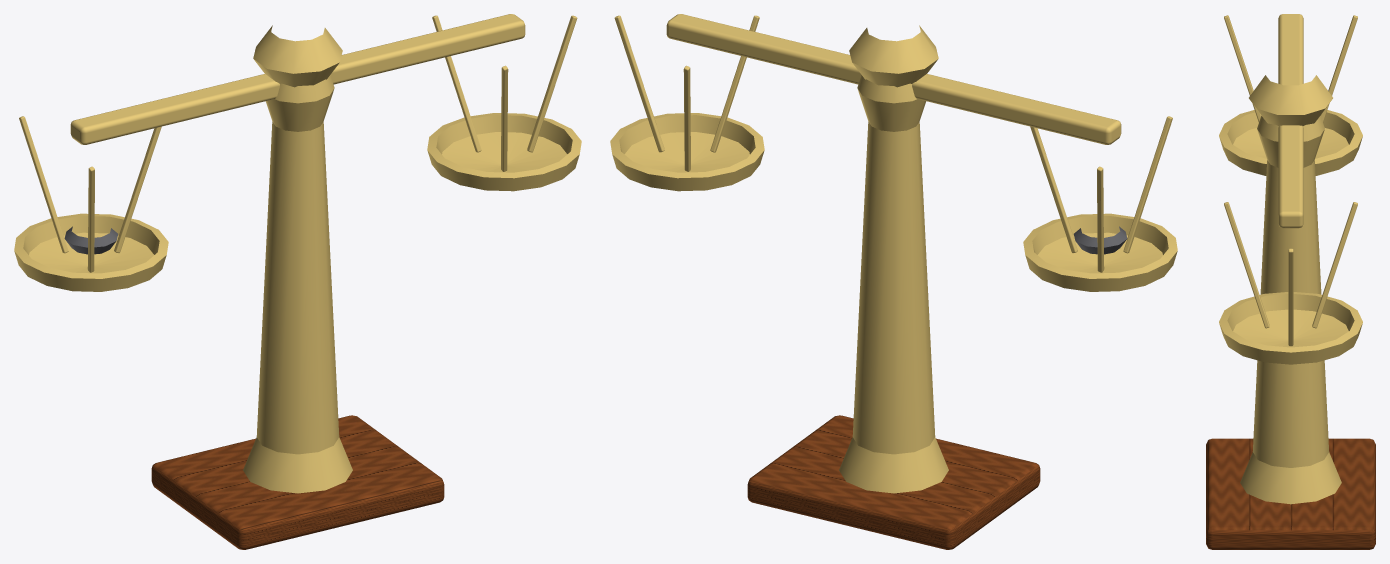
The model's file is witch-cottage-and-apothecary-brass-scales-7295edbc__32467.glb.
3 views of the same model, side by side, from view 1: azimuth 30°, elevation 25°; view 2: azimuth 150°, elevation 25°; view 3: azimuth 270°, elevation 25° (orthographic). The views are drawn at different scales.
Visible parts, largest first — view 1: brass-scales; view 2: brass-scales; view 3: brass-scales.
Boxes of the visible parts, x1=… form: brass-scales: x1=14, y1=14, x2=581, y2=549; brass-scales: x1=610, y1=14, x2=1177, y2=549; brass-scales: x1=1206, y1=14, x2=1375, y2=549.
Bounding box in the file's own units: 0.6955 × 0.56 × 0.2.
Materials: 3 (1 with a texture image).
